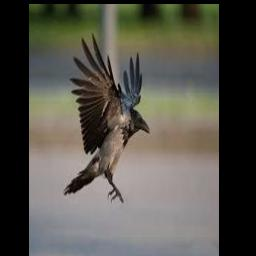Crow: (62, 33, 149, 202)
